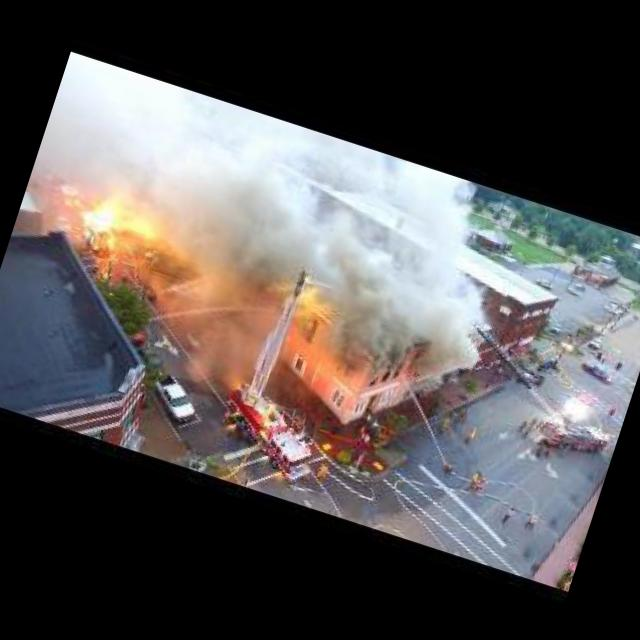fire: (88, 186, 164, 256)
smoke: (145, 94, 530, 394)
